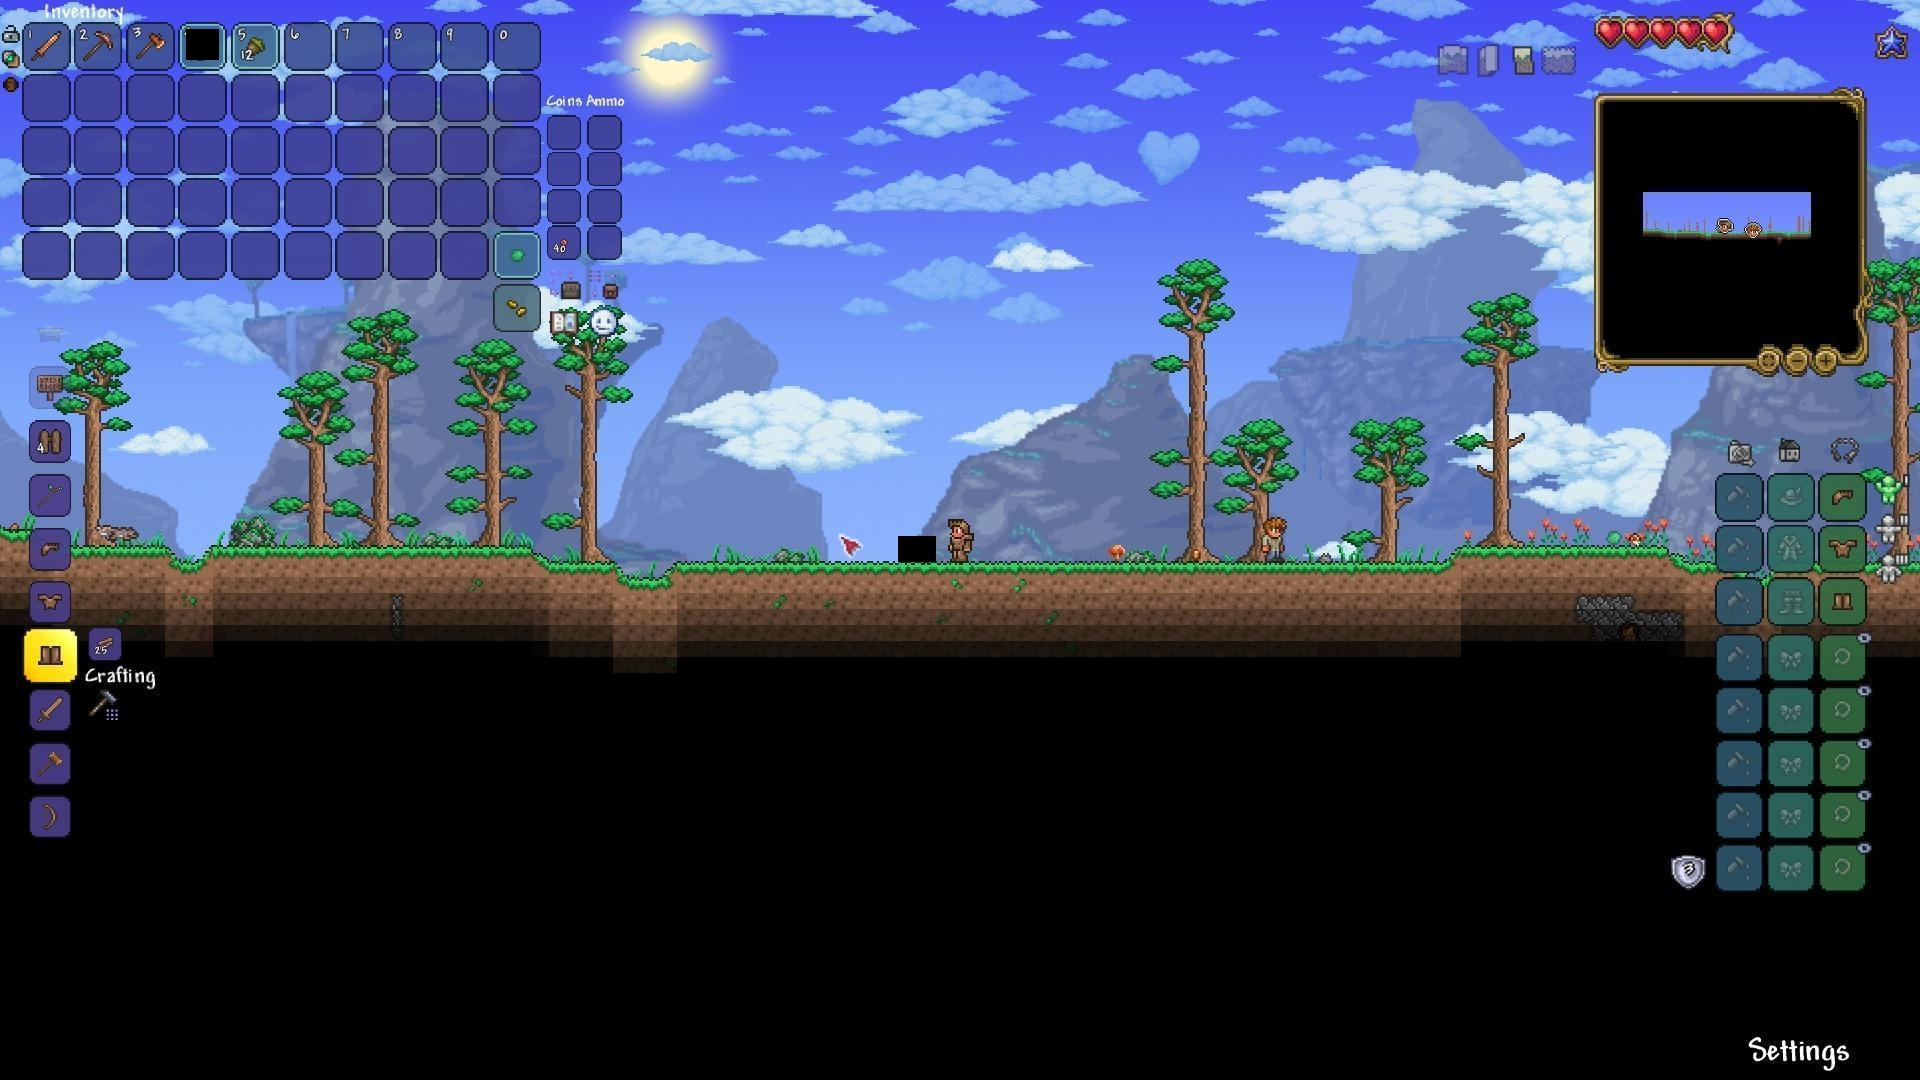breastplate: (37, 592, 67, 613), (1830, 537, 1859, 558)
helmet: (37, 537, 67, 564), (1828, 484, 1858, 510)
legs: (38, 640, 63, 669), (1832, 588, 1857, 616)
wood: (92, 632, 117, 655)
